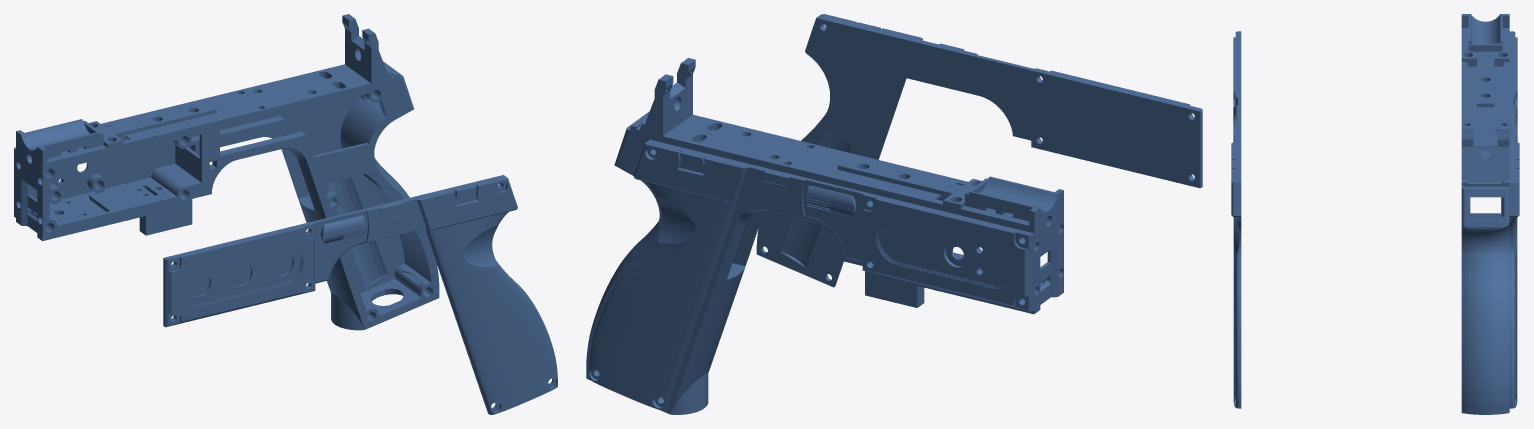
The model's file is light-gun.glb.
The picture shows the model from 3 angles, left to right: view 1: azimuth 30°, elevation 25°; view 2: azimuth 150°, elevation 25°; view 3: azimuth 270°, elevation 25°; orthographic projection. The views are drawn at different scales.
Parts seen in each view (by area): view 1: frame, leftside, rightside; view 2: rightside, leftside, frame; view 3: frame, leftside, rightside.
Boxes of the visible parts, x1,y1,x2,y2 form: frame: (16, 14, 439, 330); leftside: (163, 175, 557, 414); rightside: (14, 96, 404, 293); rightside: (588, 139, 1034, 410); leftside: (756, 14, 1202, 287); frame: (586, 58, 1063, 414); frame: (1461, 14, 1509, 414); leftside: (1231, 31, 1241, 408); rightside: (1509, 31, 1519, 408).
Bounding box in the file's own units: 223 × 155 × 151.
